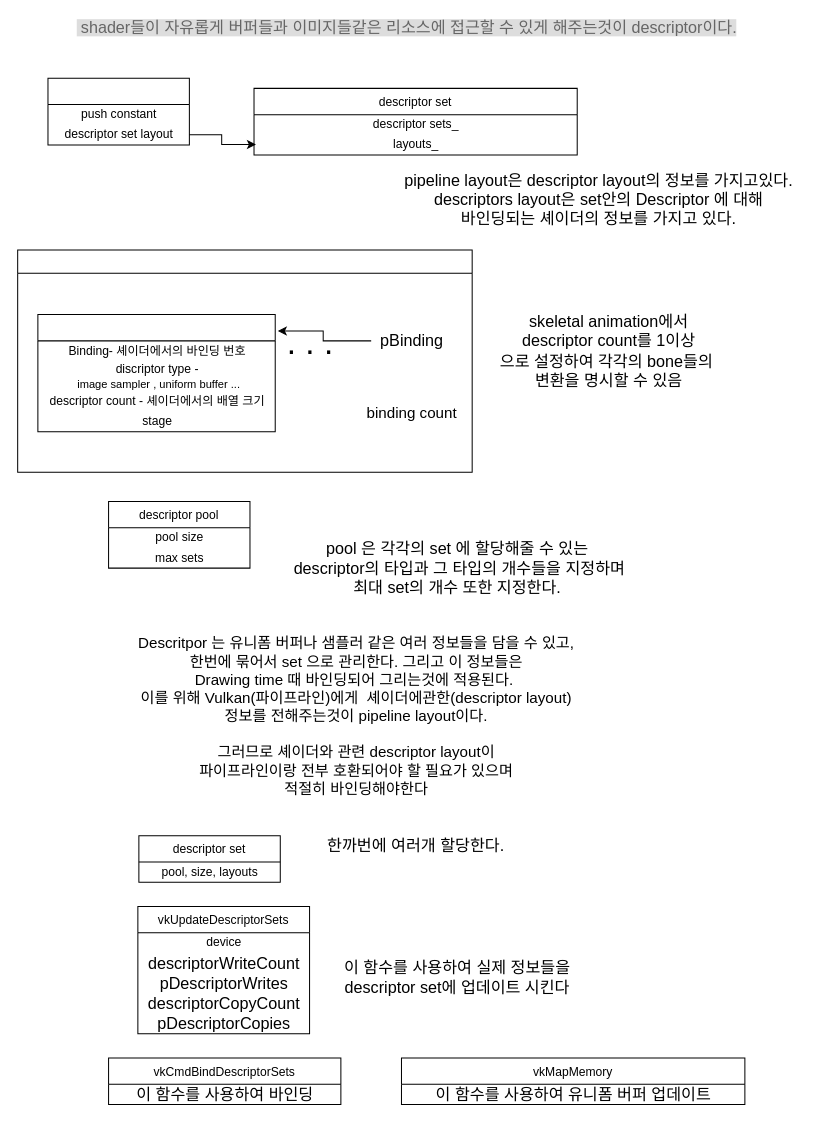
This 823x1122 diagram has some shape labels left out. Here are the shapes that lost their labels. From the top down, the box of each, then its label:
(47, 77, 189, 145): pipeline layout
(37, 314, 275, 432): layout binding
(17, 249, 472, 472): layouts
